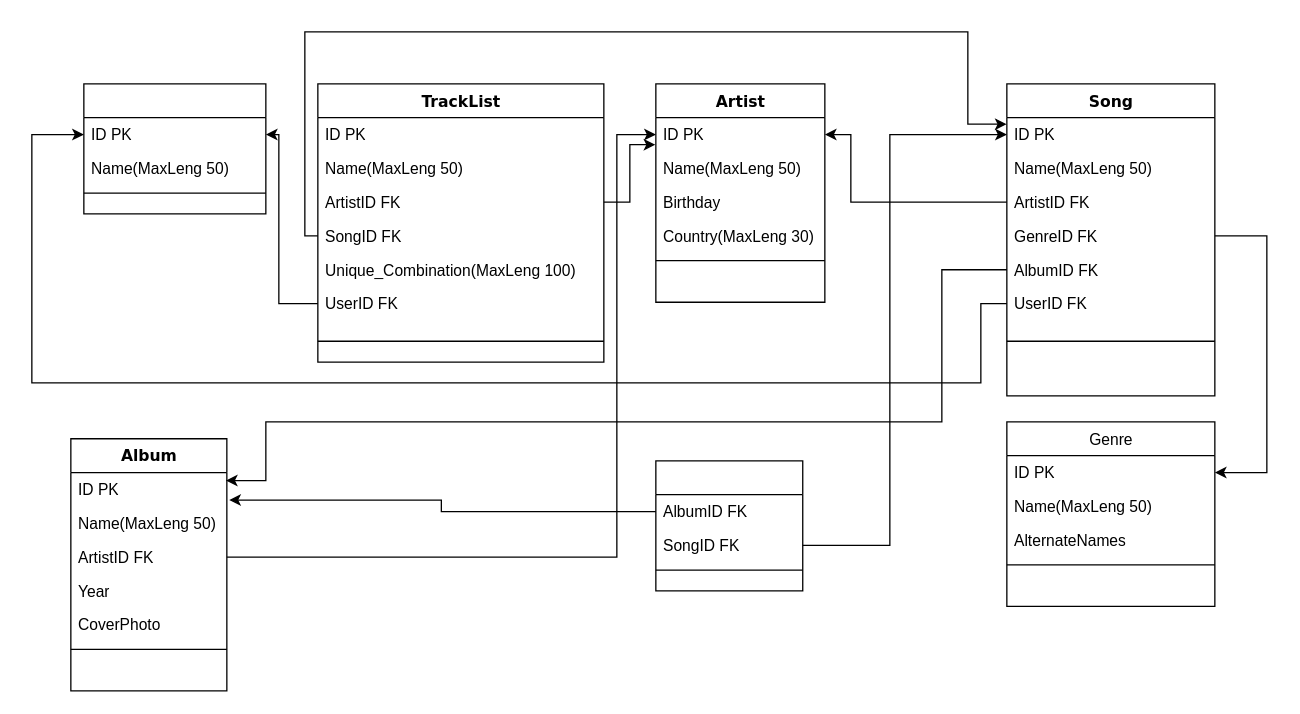
Some shapes in this 1300 by 714 pixel diagram are drawn without their labels. Here are the shapes that lost their labels. From the top down, the box of each, then its label:
(83, 83, 266, 214): User
(655, 460, 803, 591): AlbumSong
